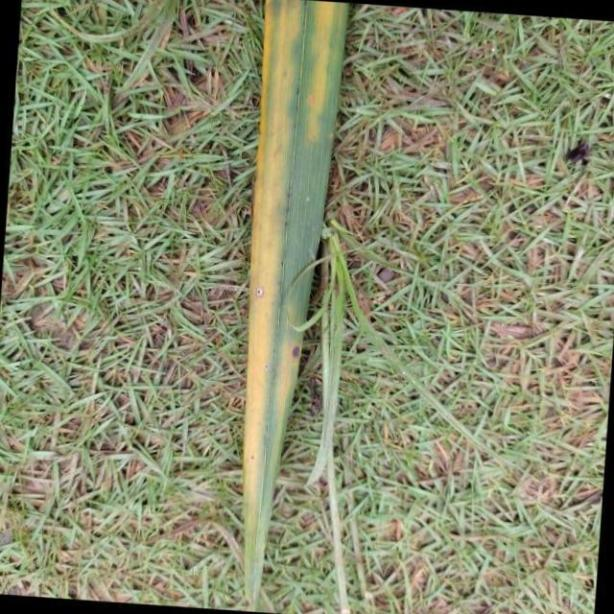Megnesium: (238, 0, 347, 614)
